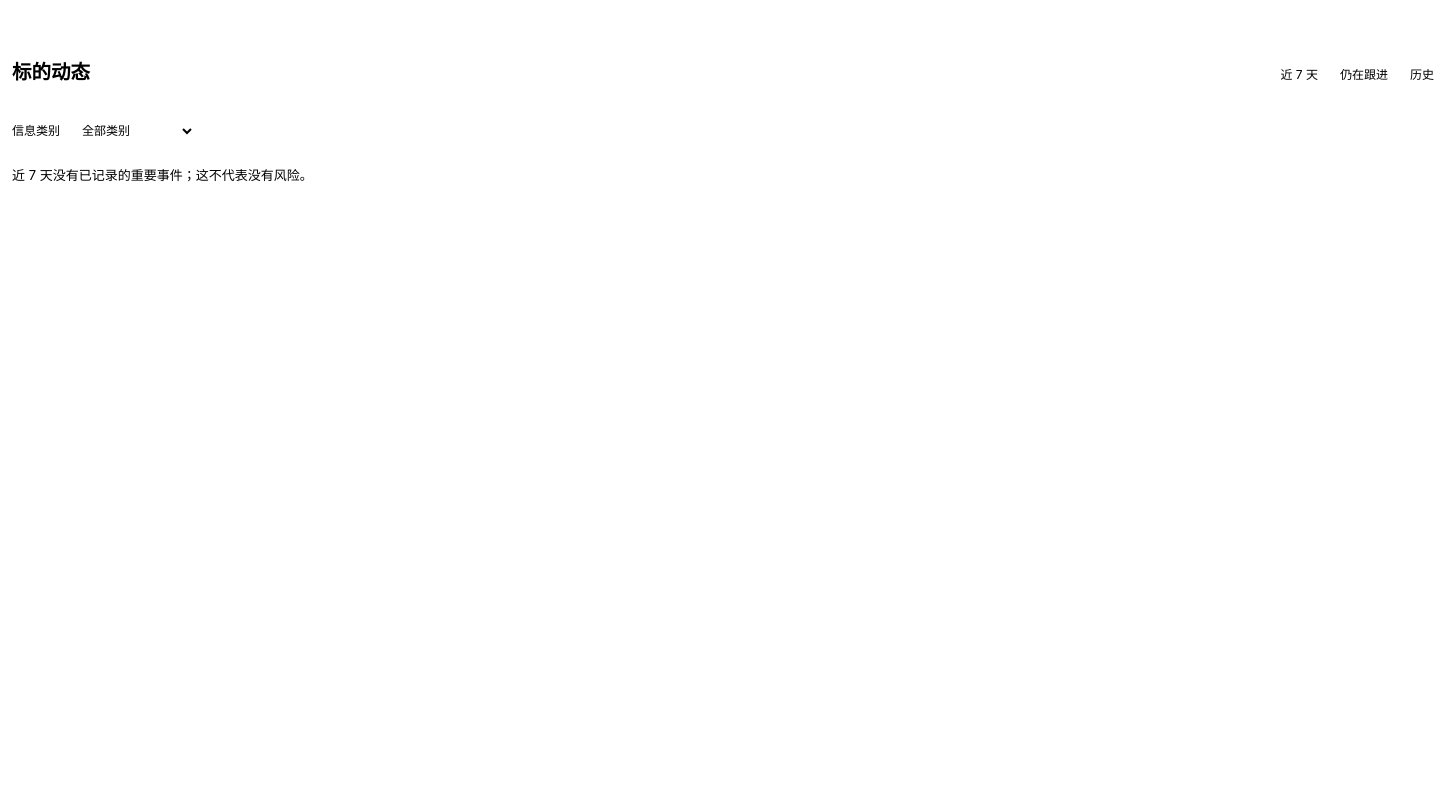
Test: loads ongoing and paged historical events on demand without a client-side seven-day filter
Expected: the text "近 7 天没有已记录的重要事件；这不代表没有风险。" is shown, [12,167,313,183]
Click the button "仍在跟进".
click(1364, 75)  # box [1332,60,1396,90]
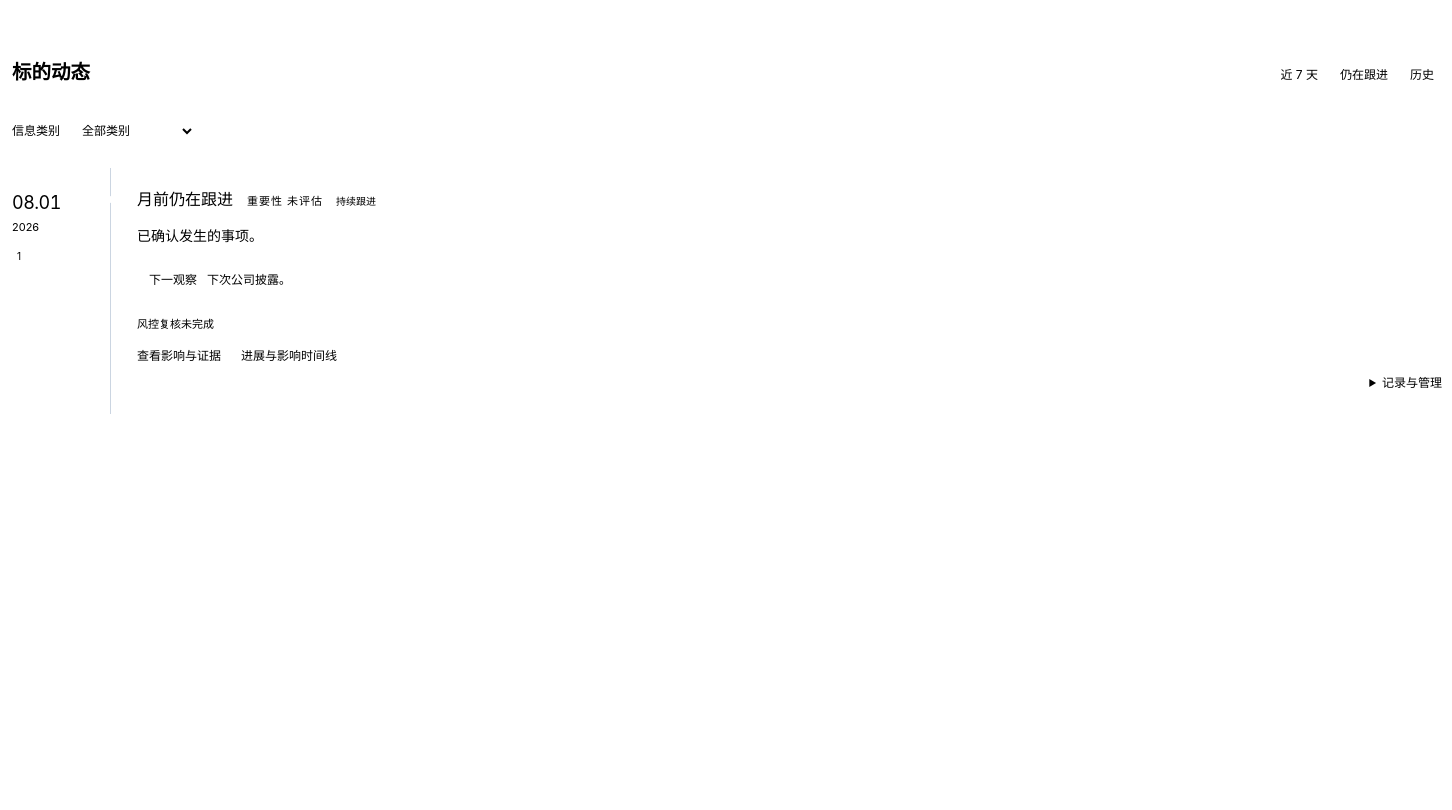
Now the heading "月前仍在跟进" is shown, box [137,186,233,213]
Click the button "历史".
click(1422, 75)  # box [1402,60,1442,90]
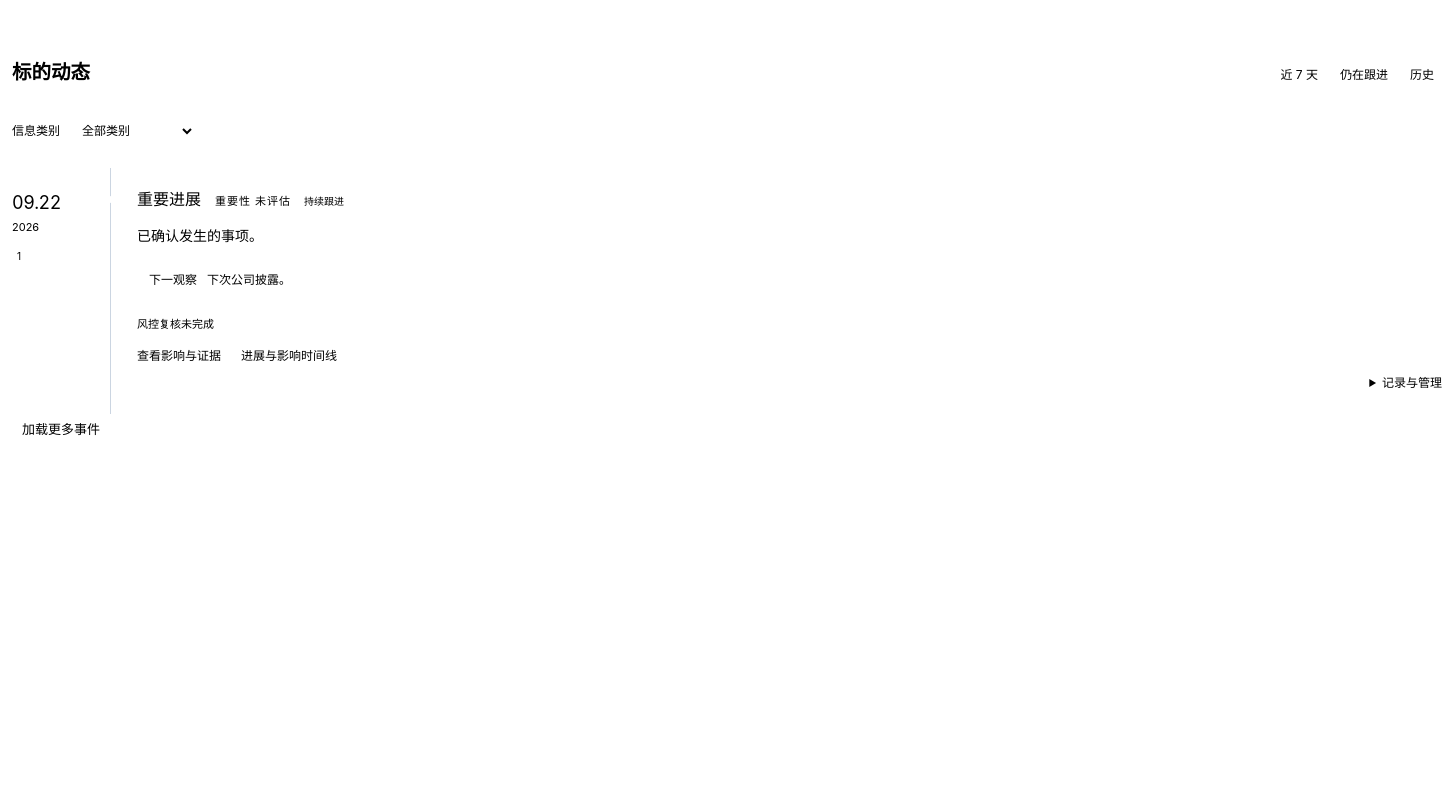
Click the button "加载更多事件".
click(61, 430)  # box [12,414,110,446]
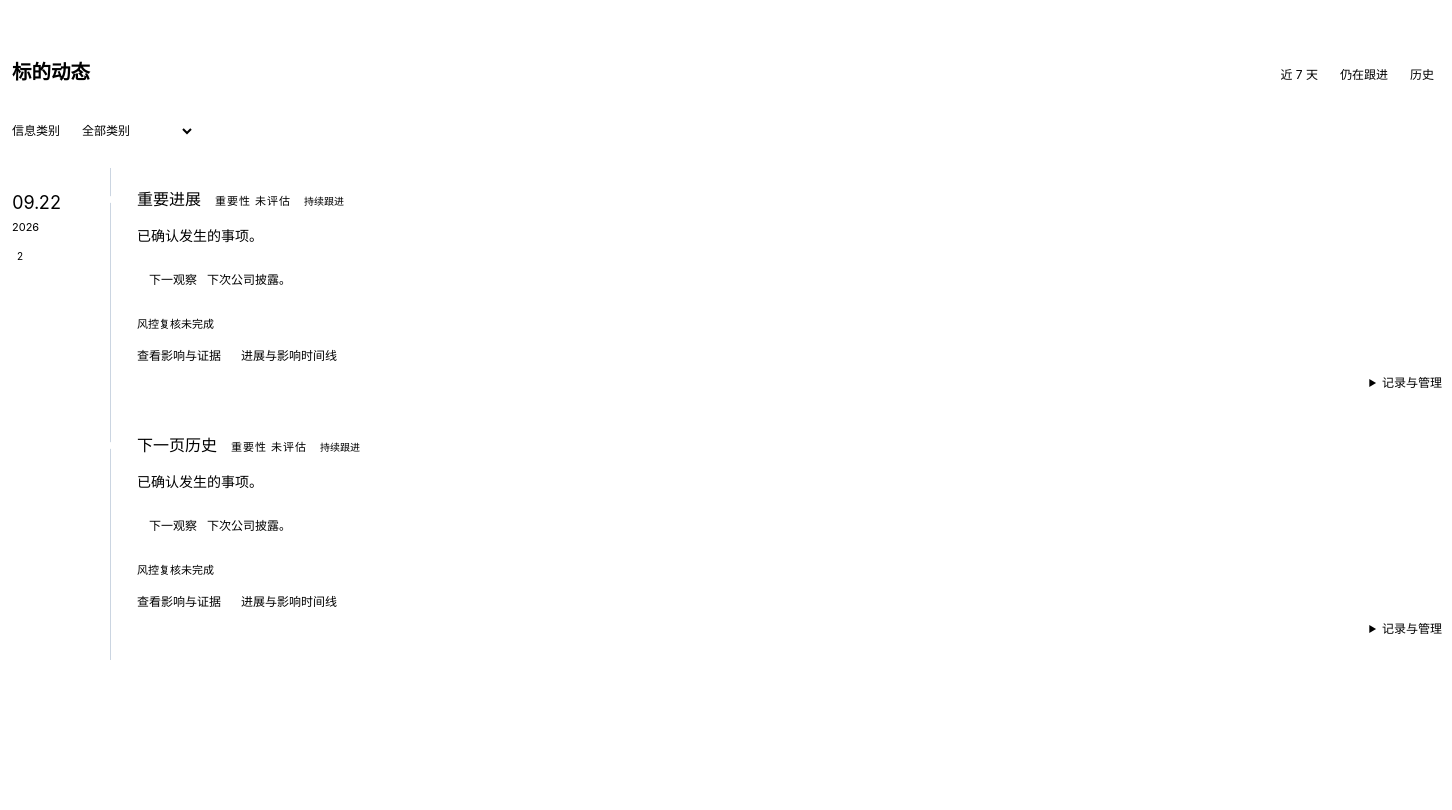
Now the heading "重要进展" is shown, box [137,186,201,213]
Now the heading "下一页历史" is shown, box [137,432,217,459]
